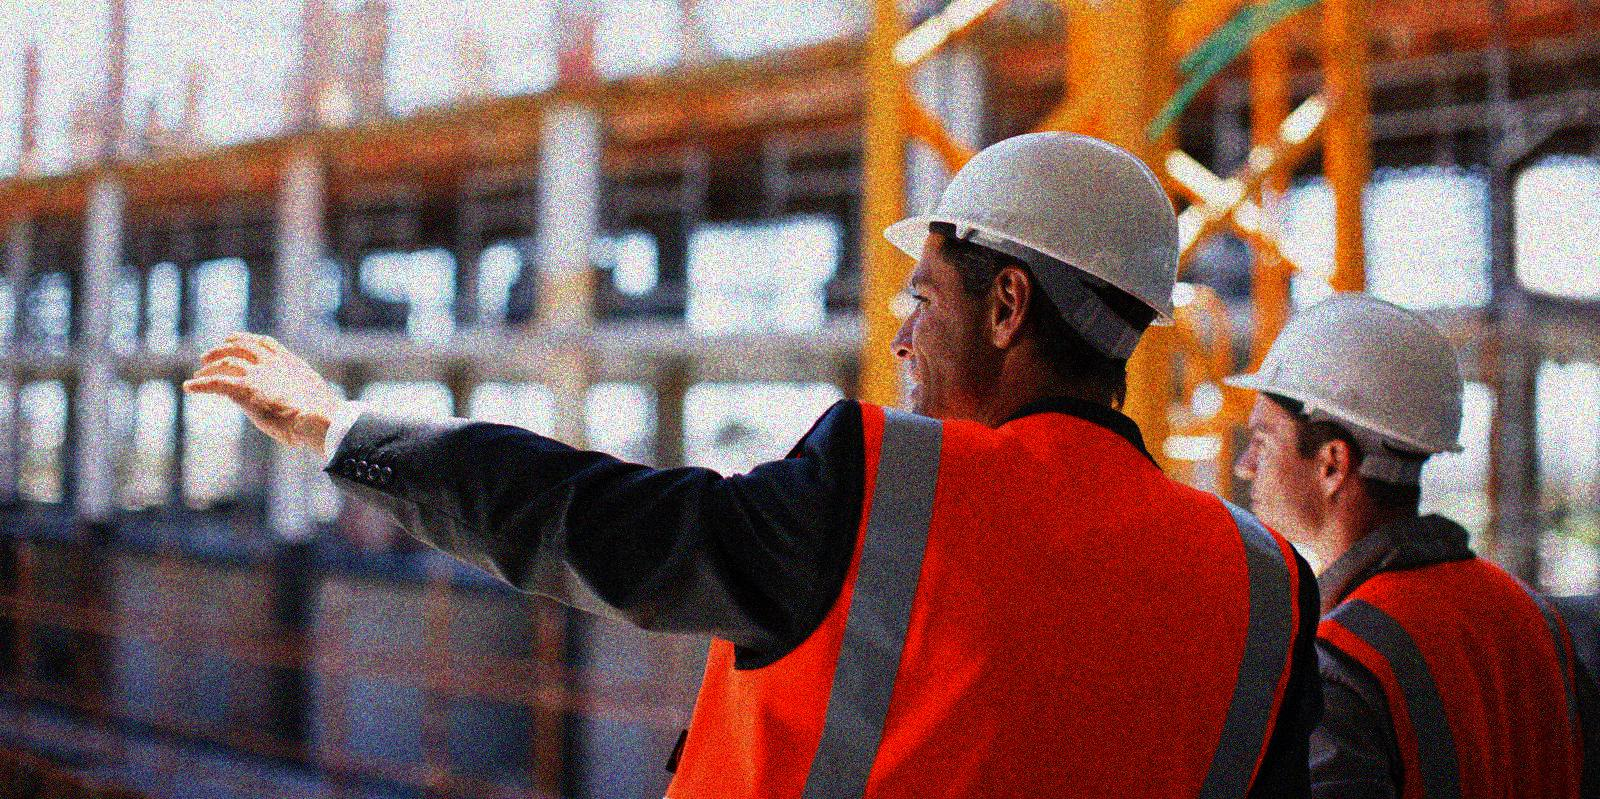helmet: (879, 132, 1187, 437), (1217, 290, 1469, 532)
